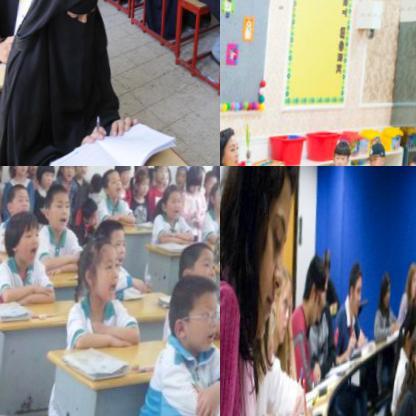head: (166, 269, 220, 352), (76, 233, 124, 298), (297, 251, 328, 340), (176, 235, 220, 297), (269, 264, 297, 360), (2, 208, 43, 268), (44, 0, 108, 34), (96, 217, 132, 267), (344, 260, 368, 328), (42, 183, 73, 231), (220, 123, 244, 166), (8, 182, 33, 220), (161, 180, 185, 218), (77, 195, 101, 232), (402, 299, 416, 359), (103, 166, 125, 199), (200, 166, 220, 200), (380, 268, 394, 312), (318, 247, 332, 290), (409, 315, 416, 401), (185, 166, 206, 194), (332, 137, 352, 166), (367, 141, 389, 166), (132, 166, 150, 193), (37, 166, 58, 188), (405, 258, 416, 297), (208, 179, 220, 209), (89, 168, 103, 193), (114, 166, 131, 183), (174, 166, 187, 186), (154, 166, 169, 182), (58, 166, 76, 179), (74, 166, 90, 178), (12, 166, 29, 176), (405, 154, 416, 166), (25, 166, 41, 173), (133, 166, 147, 174)
